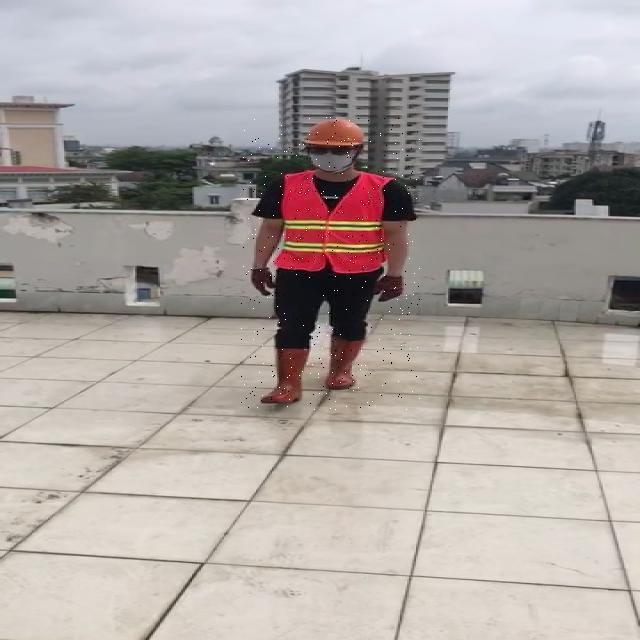gloves: (372, 273, 405, 304), (248, 267, 276, 298)
goggles: (306, 147, 357, 157)
helmet: (302, 118, 370, 148)
safety_vest: (270, 174, 391, 273)
